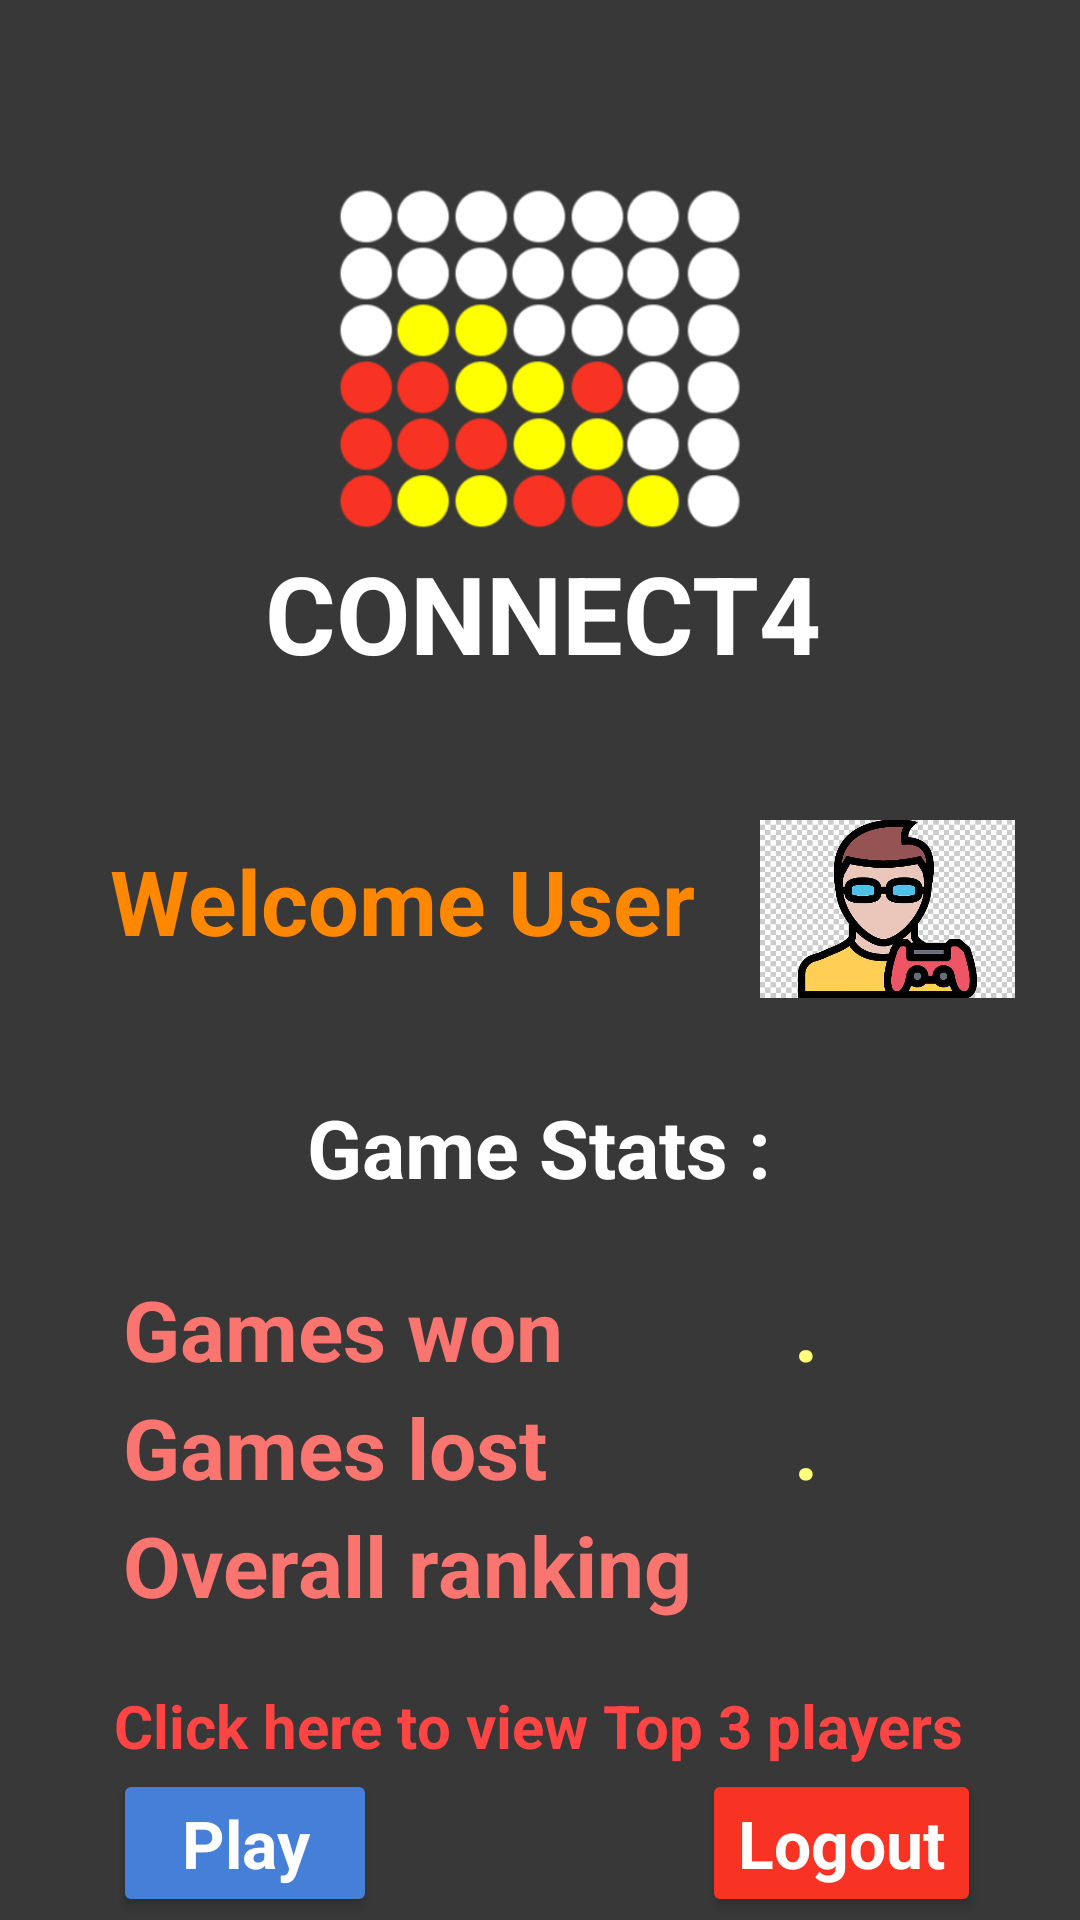

Locate icon controls on the screen. Image size 1080*1920, boxes as (x1, y1, x2, y2).
player: (760, 820, 1015, 998)
